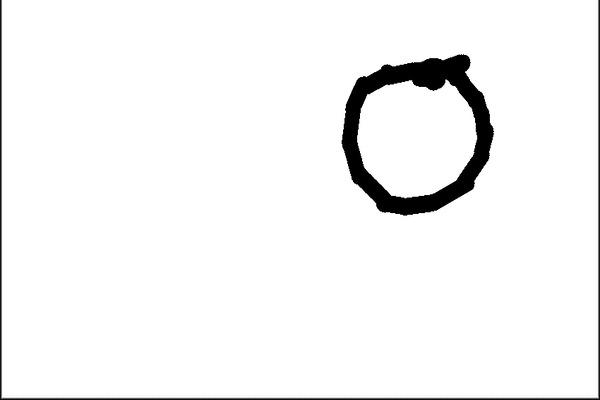O: (319, 43, 500, 224)
